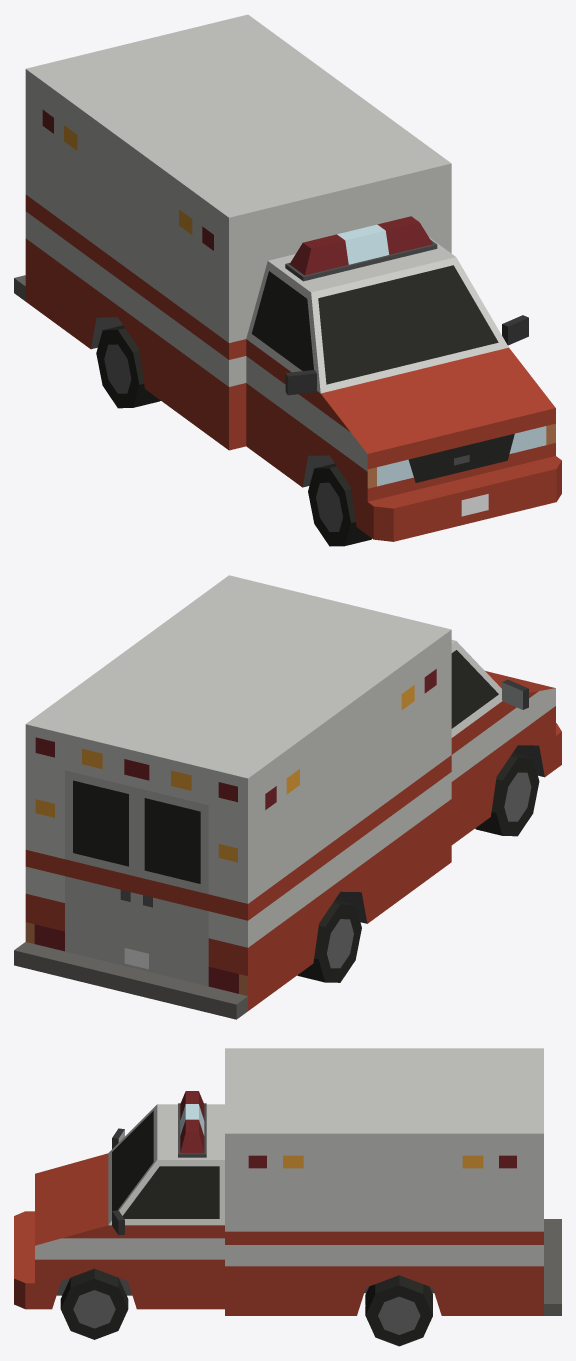
File: Veh_Ambulance.glb
3 views of the same model, one above another, from view 1: azimuth 30°, elevation 25°; view 2: azimuth 150°, elevation 25°; view 3: azimuth 270°, elevation 25° (orthographic). The views are drawn at different scales.
Parts seen in each view (by area): view 1: Ambulance, Wheel_FR, Wheel_RR; view 2: Ambulance, Wheel_RR, Wheel_FR; view 3: Ambulance, Wheel_RL, Wheel_FL.
Boxes of the visible parts, x1,y1,x2,y2 form: Ambulance: (14,14,561,541); Wheel_FR: (308,463,371,546); Wheel_RR: (96,325,160,408); Ambulance: (14,575,561,1019); Wheel_RR: (297,900,361,982); Wheel_FR: (475,753,539,836); Ambulance: (14,1048,561,1315); Wheel_RL: (365,1275,432,1346); Wheel_FL: (60,1268,128,1339).
Bounding box in the file's own units: 1.48 × 1.59 × 3.71.
1 material, 1 textured.
